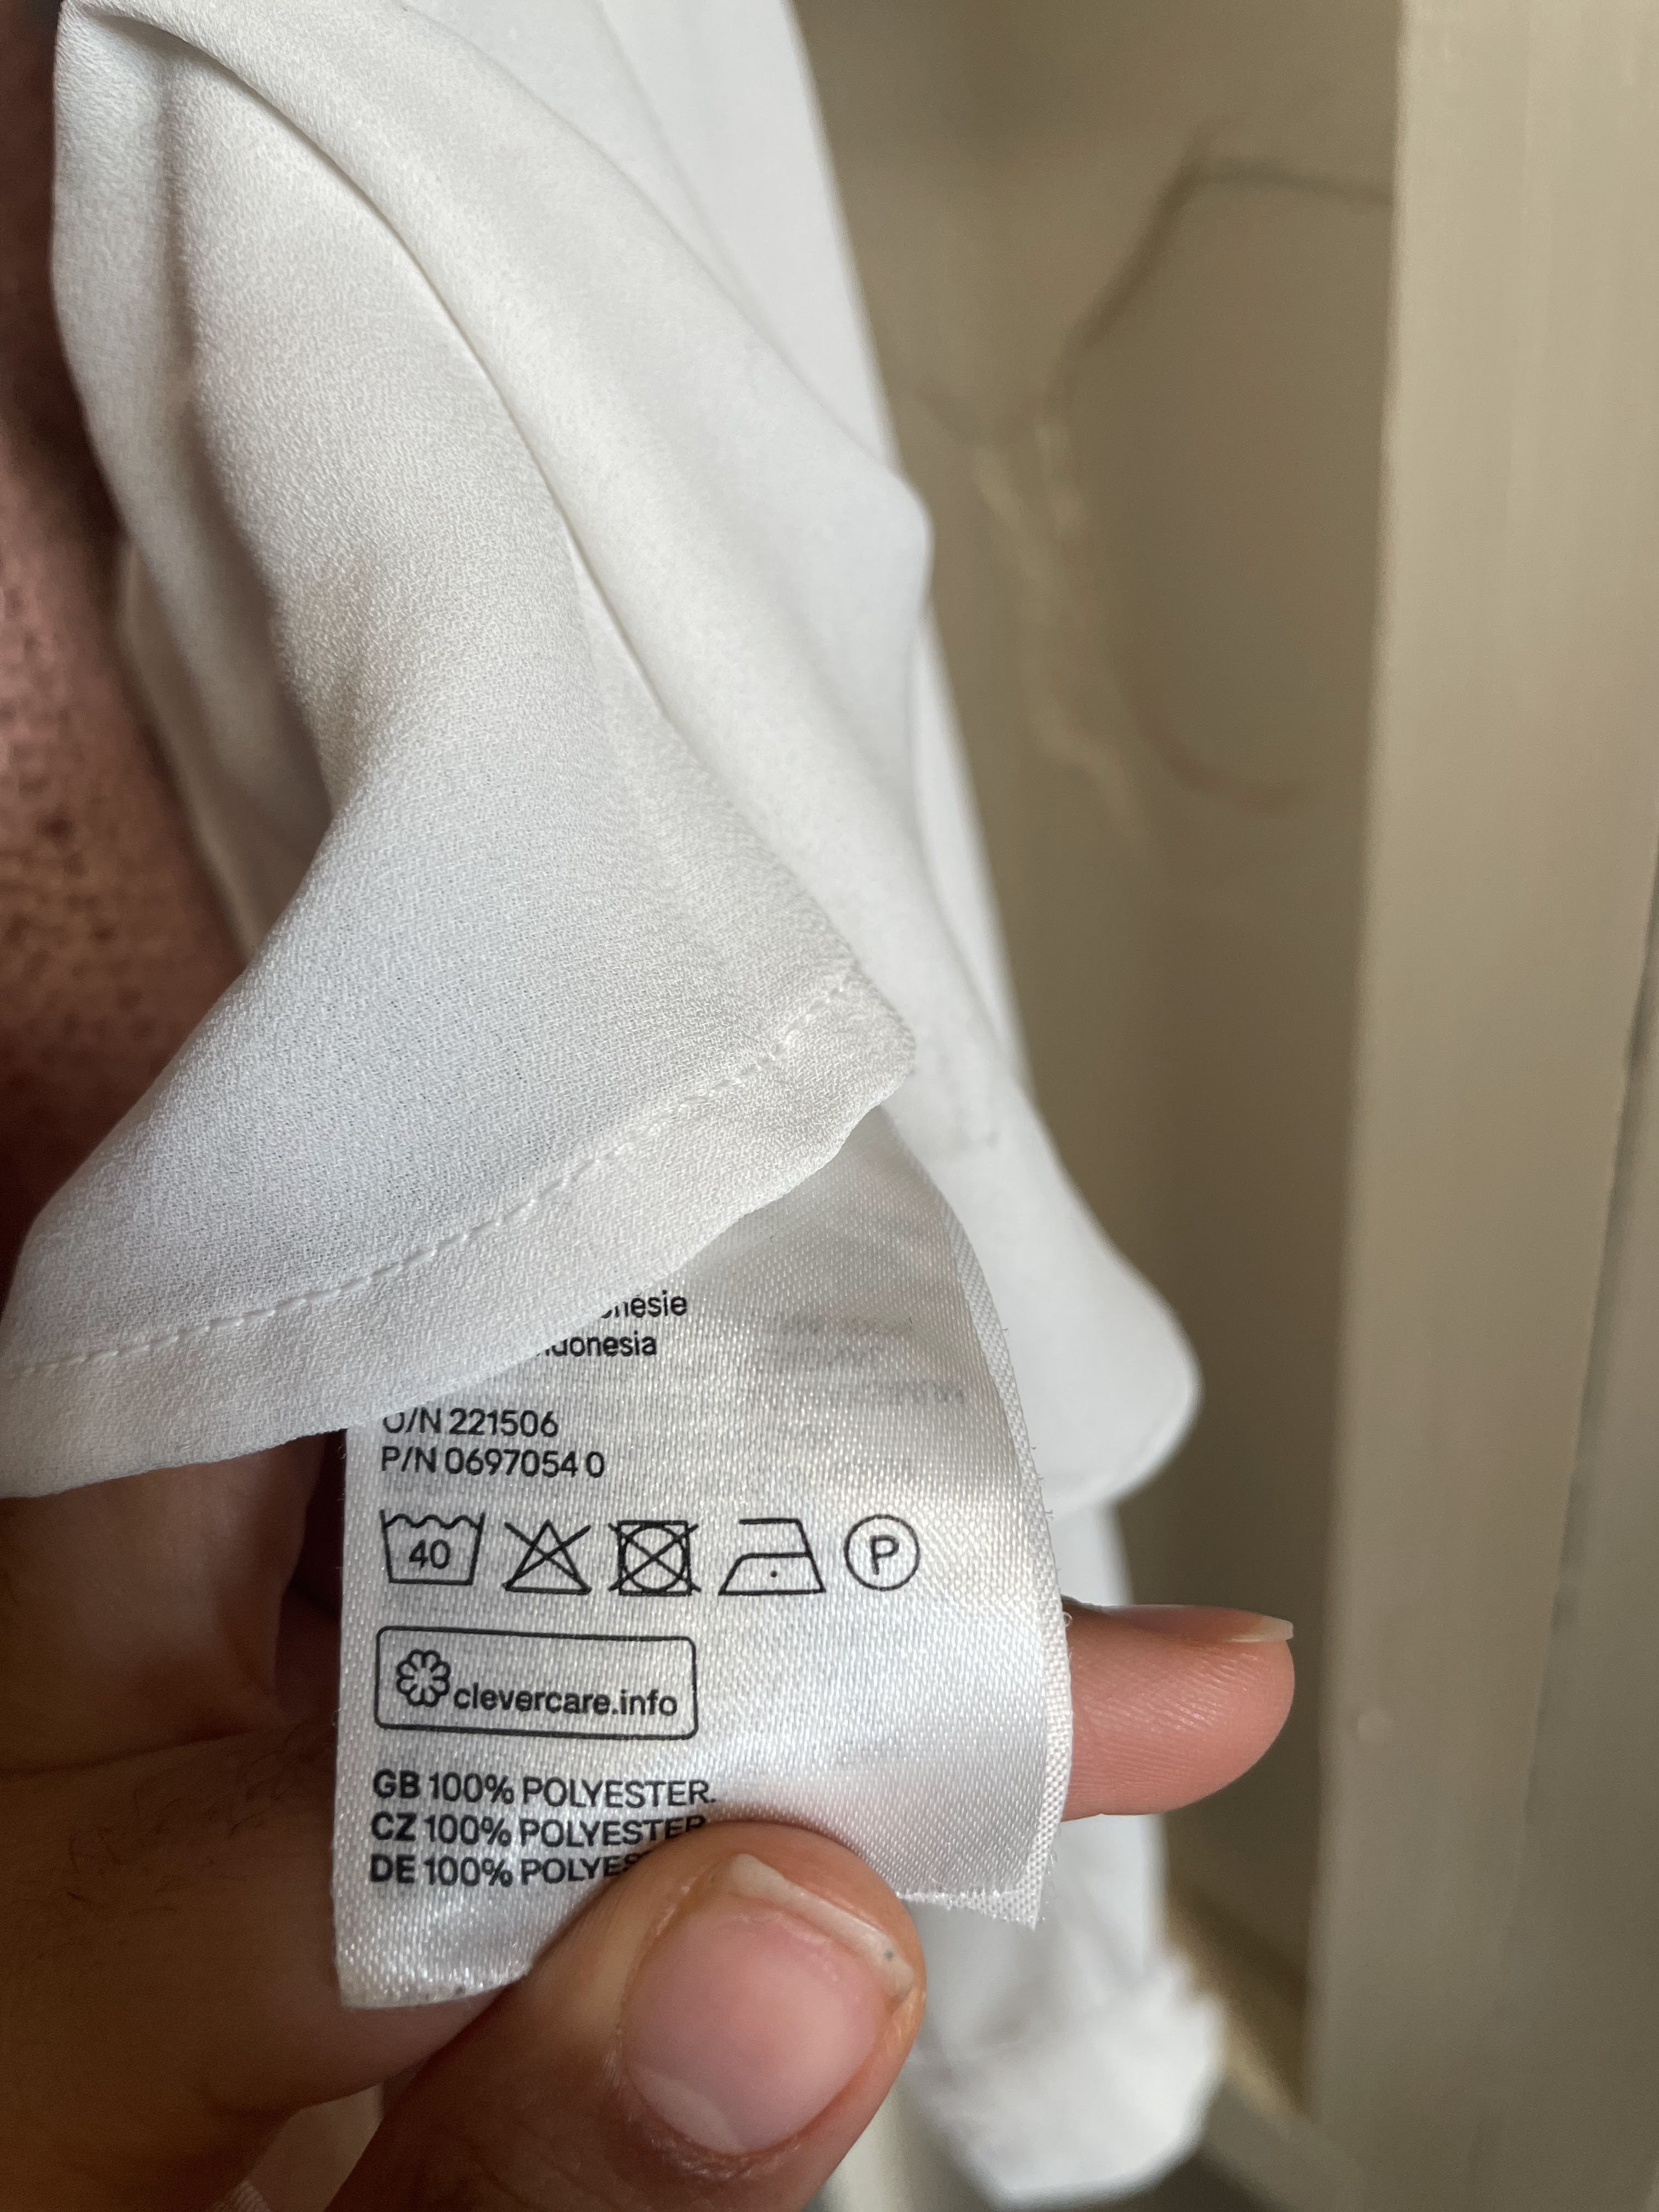do not bleach: (491, 1491, 606, 1622)
do not tumble dry: (610, 1503, 709, 1613)
dry clean: (831, 1487, 938, 1620)
iron low temp: (695, 1494, 830, 1613)
wash at or below 40: (380, 1494, 493, 1592)
